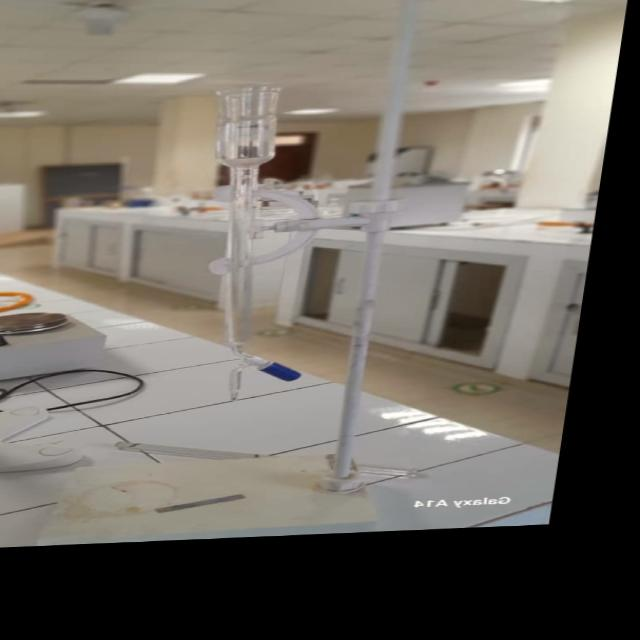Column Chromatography: (164, 74, 352, 410)
